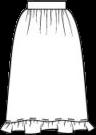Hemline: (0, 128, 94, 133)
Waistline: (4, 119, 88, 122), (26, 8, 66, 10), (27, 0, 65, 2)
